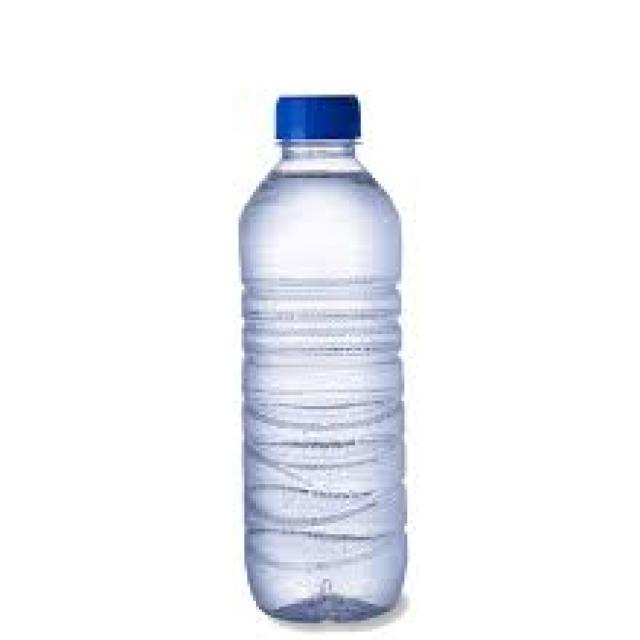plastic cup: (239, 95, 406, 621)
